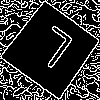L: (26, 24, 76, 78)
